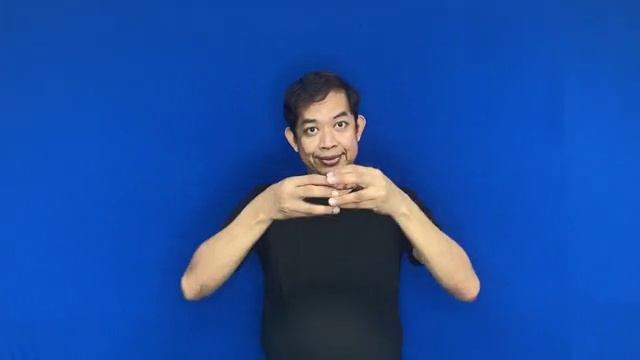egg: (255, 161, 405, 228)
